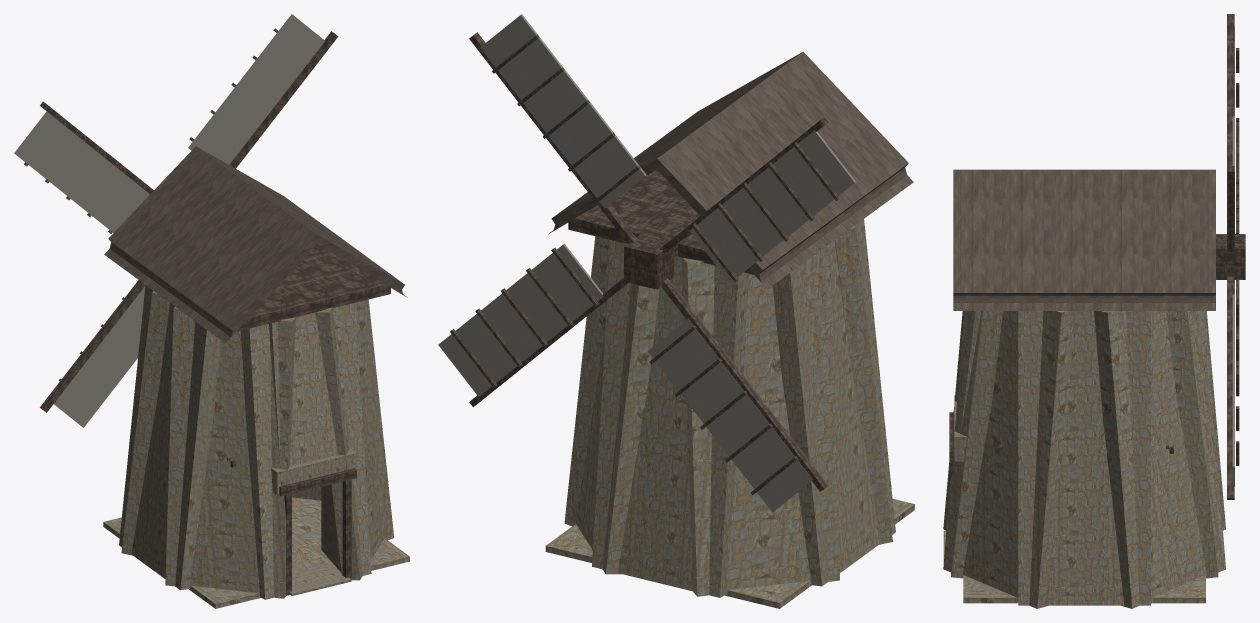
File: prop_windmill_v2.glb
3 renders of one model, left to right at view 1: azimuth 30°, elevation 25°; view 2: azimuth 150°, elevation 25°; view 3: azimuth 270°, elevation 25°, orthographic. The views are drawn at different scales.
Parts seen in each view (by area): view 1: building_windmill_v2; view 2: building_windmill_v2; view 3: building_windmill_v2.
Boxes of the visible parts, x1,y1,x2,y2 form: building_windmill_v2: (14,14,409,608); building_windmill_v2: (438,14,914,608); building_windmill_v2: (943,14,1245,608).
Bounding box in the file's own units: 8.73 × 10.93 × 6.1.
Materials: 4 (4 with a texture image).
